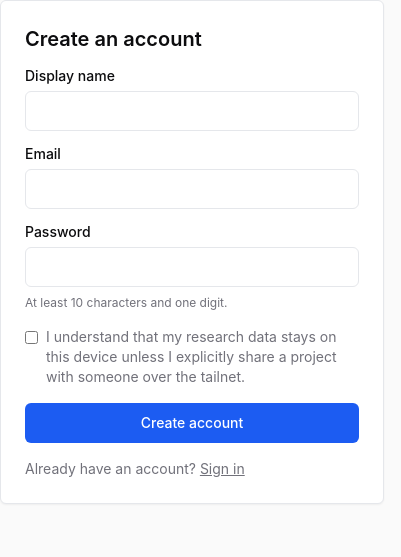
it: SignupForm › requires TOS acknowledgement before submitting
The width and height of the screenshot is (401, 557).
Type "Alice" into the field labelled "Display name" at point(192, 111), box [25,91,359,131]
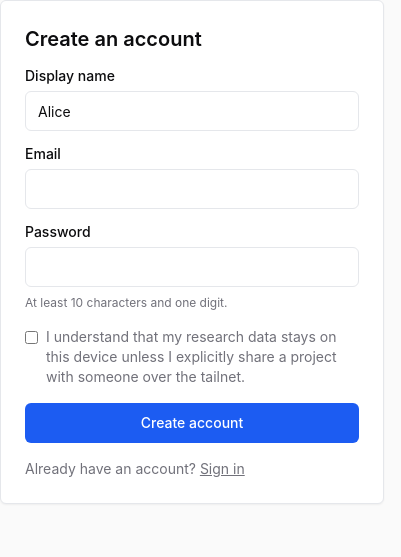
Type "a@b.com" into the field labelled "Email" at point(192, 189), box [25,169,359,209]
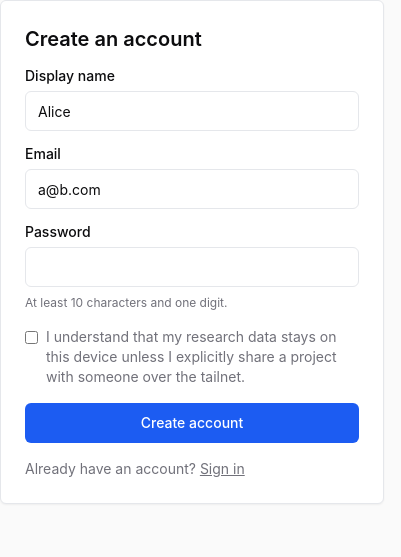
Type "longpassword1" into the password field labelled "Password" at point(192, 267), box [25,247,359,287]
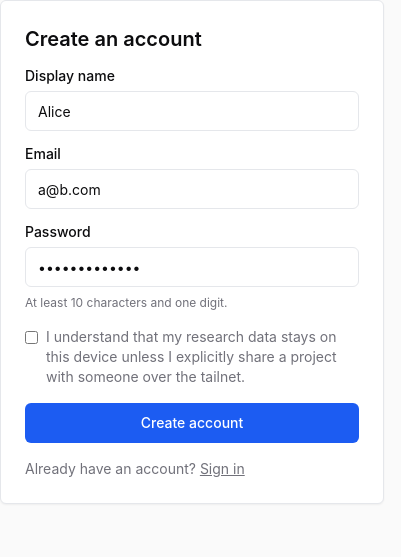
Note: Skip clicking the TOS checkbox.
Submit the form with test id "signup-form"
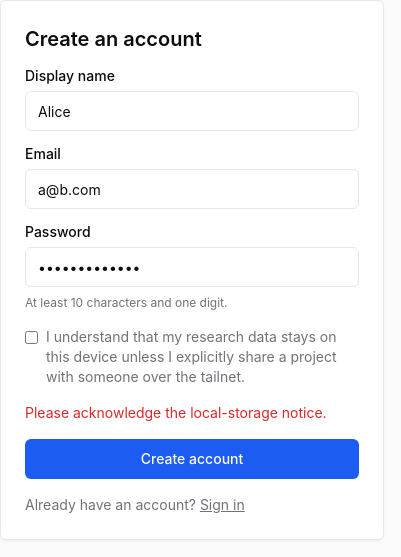
Check: the message "Please acknowledge the local-storage notice." is shown, box [25,403,359,423]
